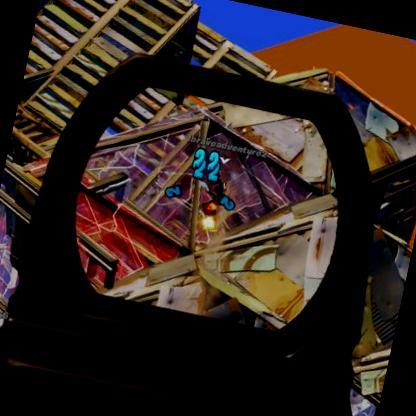person: (190, 166, 233, 230)
